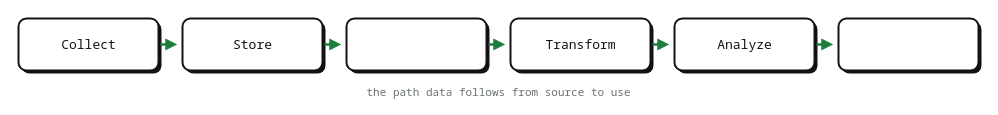
Image size: 998x115. Some labels were removed from this diagram. Each missing label, with the box of its shape:
Clean: (345, 17, 487, 71)
Share: (837, 17, 979, 71)
